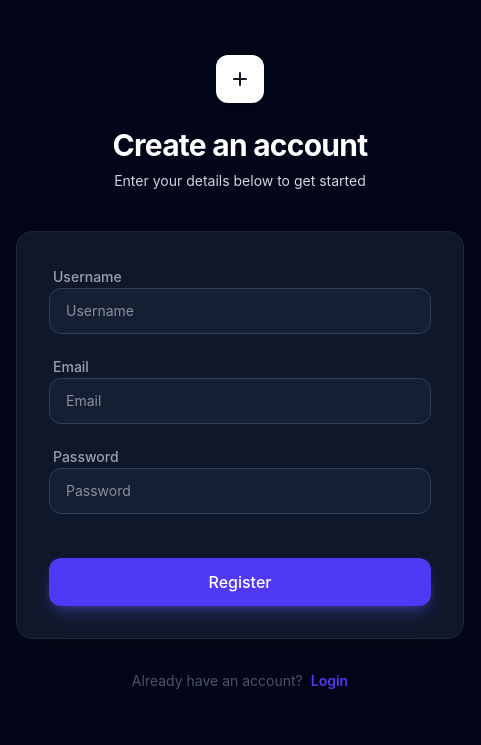
it: Register Component › displays error message on failed registration
Type "testuser" into the field with placeholder "Username". click: (240, 311)
box: left=49, top=288, right=431, bottom=334
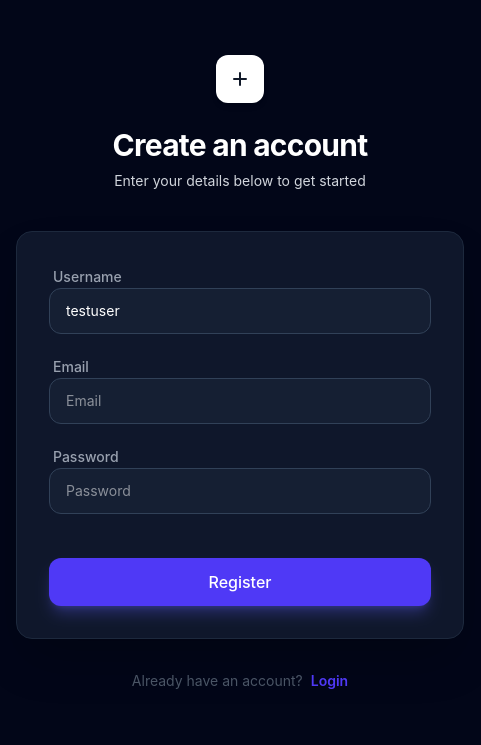
Type "test@example.com" into the field with placeholder "Email". click: (240, 401)
box: left=49, top=378, right=431, bottom=424
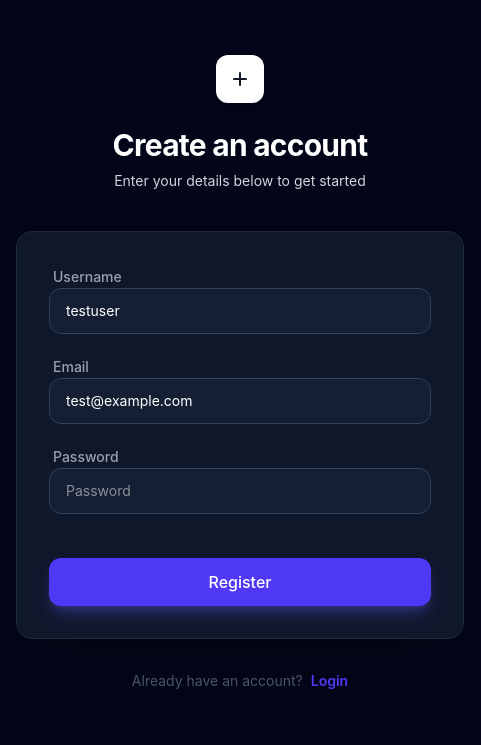
Type "password123" into the password field with placeholder "Password". click: (240, 491)
box: left=49, top=468, right=431, bottom=514
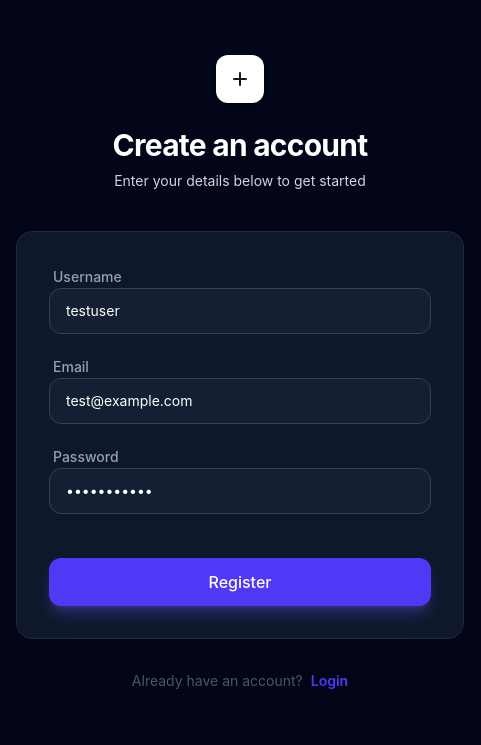
Click the button "Register". click: click(240, 582)
box: left=49, top=558, right=431, bottom=606
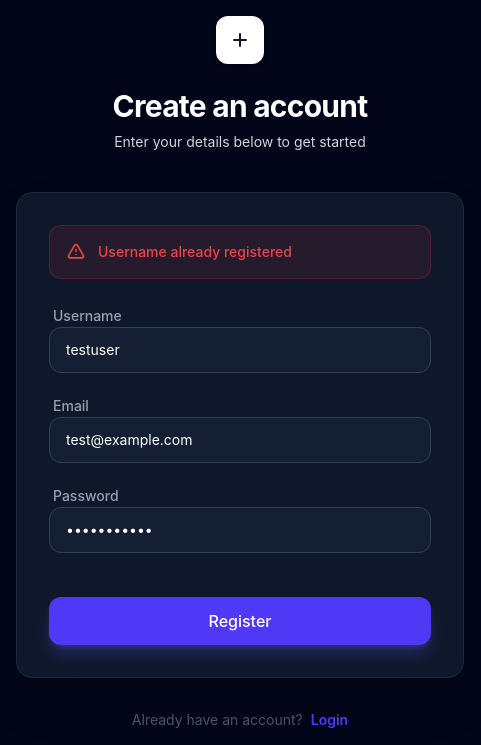
Expected: the text "Username already registered" is shown, left=49, top=225, right=431, bottom=279
